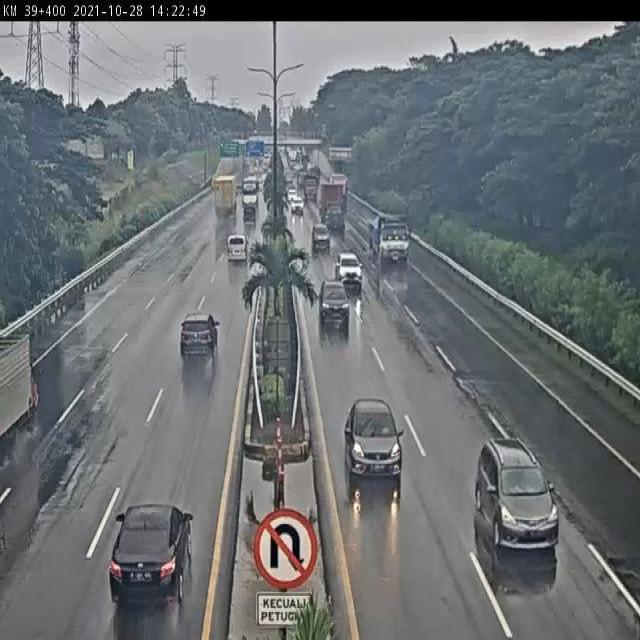car: (474, 436, 560, 556), (178, 311, 220, 360)
truck-l-: (371, 215, 411, 269)
truck-xl-: (319, 183, 348, 237)
